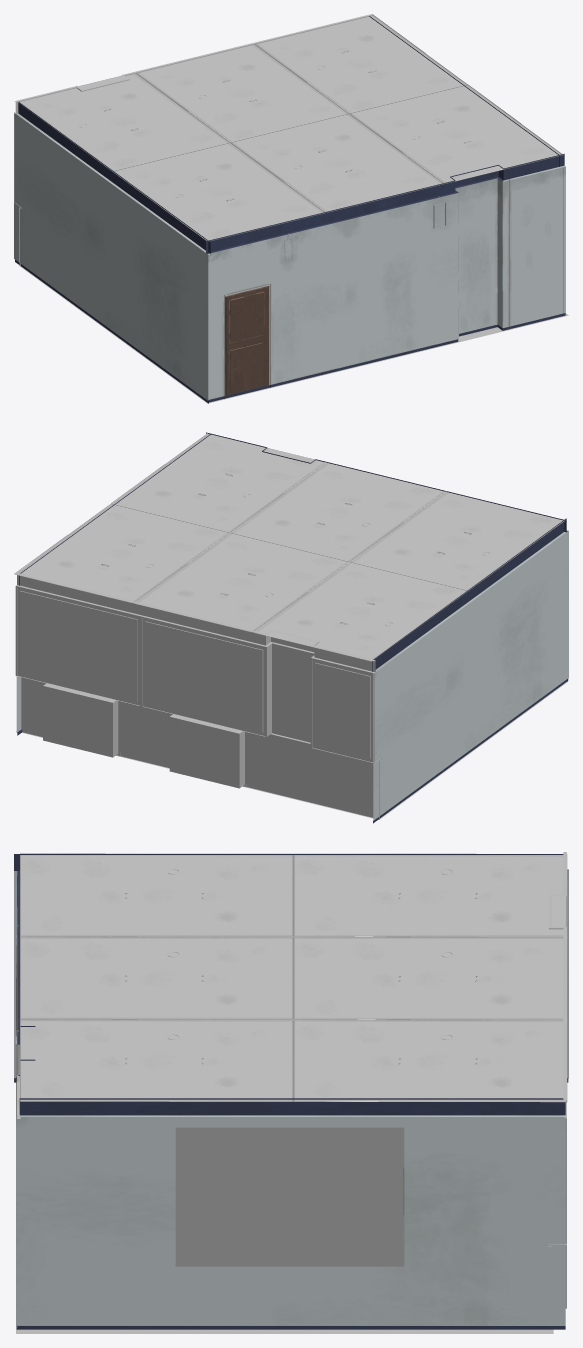
The picture shows the model from 3 angles, top to bottom: view 1: azimuth 30°, elevation 25°; view 2: azimuth 150°, elevation 25°; view 3: azimuth 270°, elevation 25°; orthographic projection. The views are drawn at different scales.
Parts seen in each view (by area): view 1: Roof, Wall, Wall.001, Windows, Floor; view 2: Roof, Windows, Wall.001, Wall.002, Wall, Floor; view 3: Roof, Wall.002, School blackboards, Floor, Wall.001, Windows, Wall.
Part boxes in pixels (bbox=[...]): Roof: bbox=[18, 14, 563, 241]; Wall: bbox=[206, 153, 565, 402]; Wall.001: bbox=[14, 102, 210, 403]; Windows: bbox=[14, 14, 372, 266]; Floor: bbox=[19, 265, 568, 403]; Roof: bbox=[14, 433, 564, 661]; Windows: bbox=[15, 573, 381, 819]; Wall.001: bbox=[372, 518, 568, 823]; Wall.002: bbox=[16, 434, 210, 735]; Wall: bbox=[206, 432, 567, 681]; Floor: bbox=[16, 681, 567, 819]; Roof: bbox=[20, 853, 567, 1102]; Wall.002: bbox=[16, 1098, 565, 1329]; School blackboards: bbox=[175, 1127, 404, 1266]; Floor: bbox=[16, 1083, 553, 1333]; Wall.001: bbox=[14, 854, 568, 1082]; Windows: bbox=[548, 852, 566, 1324]; Wall: bbox=[15, 871, 35, 1327].
Bounding box in the file's own units: 7.86 × 3.36 × 7.33.
